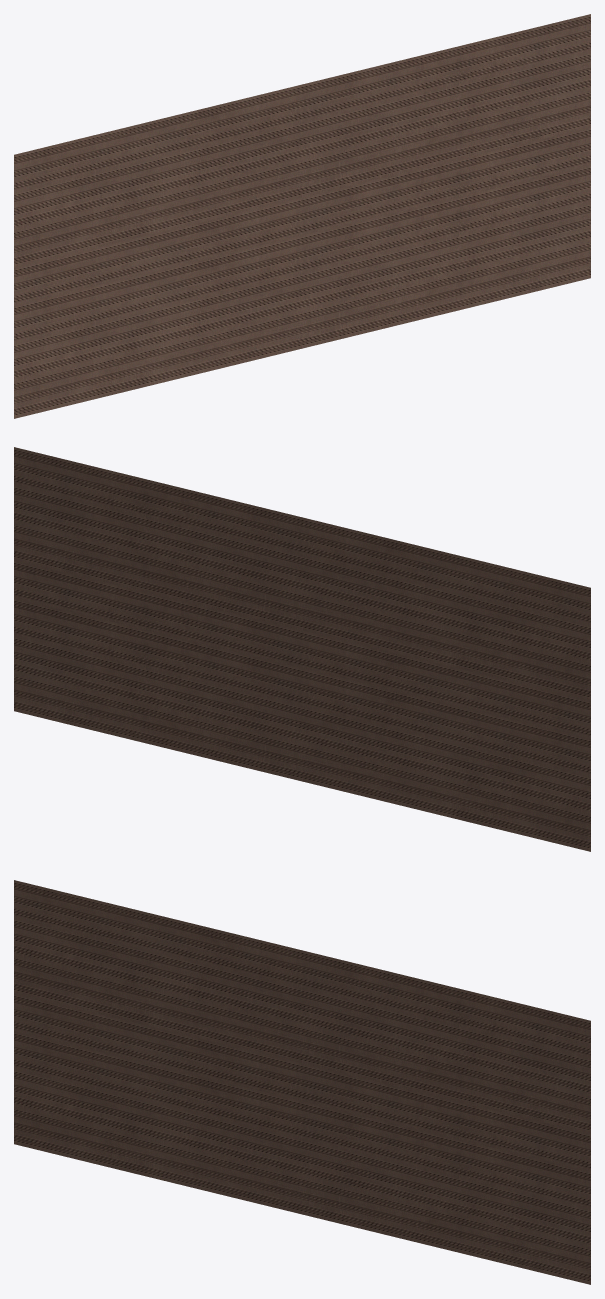
Rendered from House_03_Wall_02.fbx.
3 views of the same model, one above another, from view 1: azimuth 30°, elevation 25°; view 2: azimuth 150°, elevation 25°; view 3: azimuth 330°, elevation 25° (orthographic).
Parts seen in each view (by area): view 1: House_03_Wall_02; view 2: House_03_Wall_02; view 3: House_03_Wall_02.
Part boxes in pixels (x1,y1,x2,y2): House_03_Wall_02: [14, 14, 590, 418]; House_03_Wall_02: [14, 447, 590, 851]; House_03_Wall_02: [14, 880, 590, 1284].
Bounding box in the file's own units: 400 × 175 × 0.
